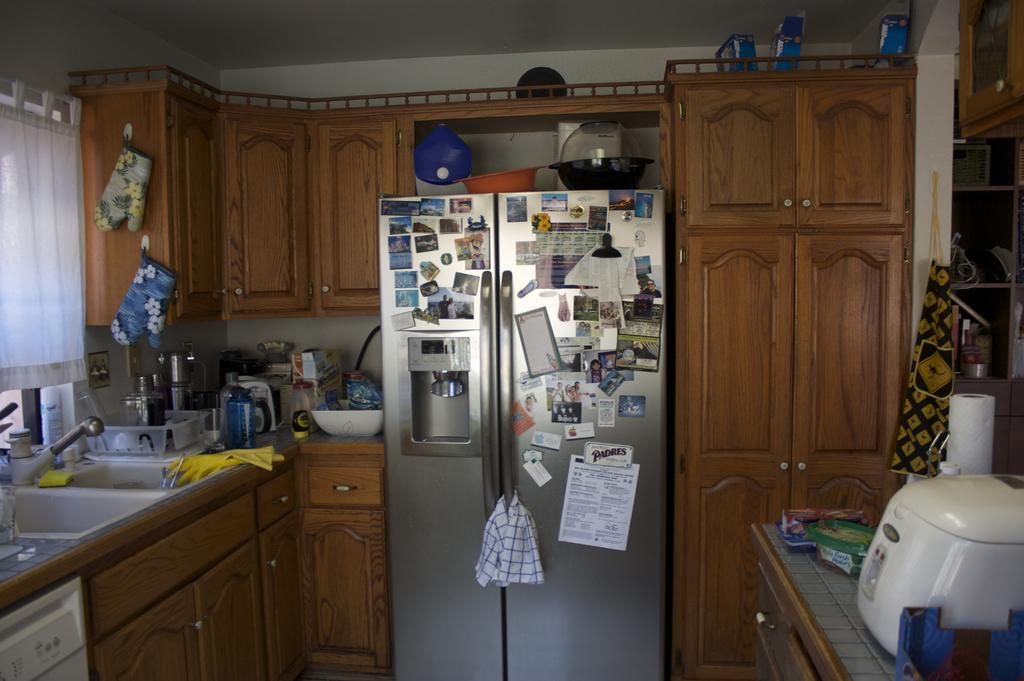cabinet_door: (696, 238, 790, 678), (800, 236, 886, 514), (689, 86, 797, 225), (802, 93, 902, 225), (318, 514, 396, 674), (224, 129, 290, 302), (318, 133, 386, 292), (172, 108, 220, 309), (264, 528, 310, 679), (200, 564, 258, 681), (125, 614, 199, 681), (300, 457, 370, 506), (265, 476, 301, 514)
handle: (494, 262, 524, 507), (470, 266, 498, 518), (188, 610, 202, 638), (796, 192, 812, 216), (778, 452, 794, 475), (782, 192, 796, 218), (334, 483, 360, 496), (267, 550, 281, 572), (318, 281, 334, 298), (796, 456, 810, 474), (278, 489, 290, 510), (236, 281, 246, 301)
